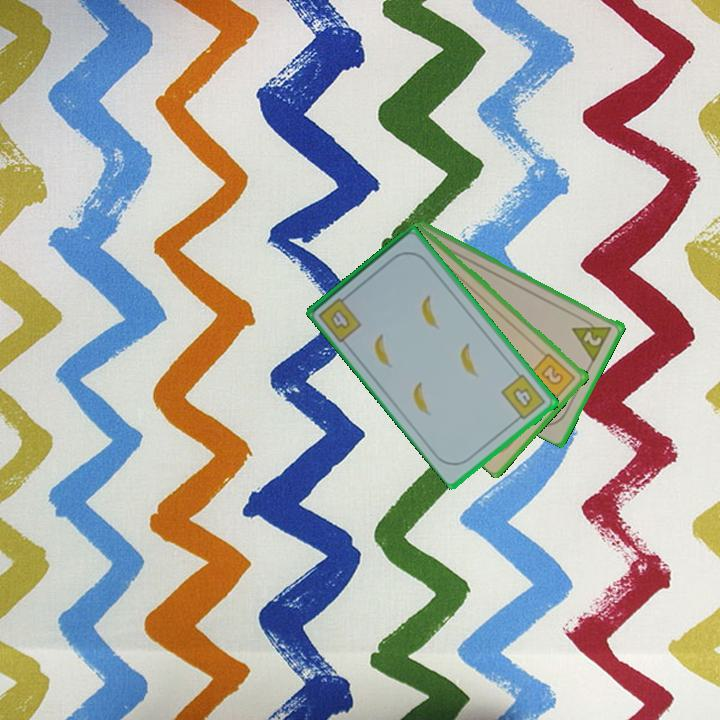2b: (527, 349, 578, 404)
2p: (580, 327, 605, 349)
4b: (498, 371, 549, 425), (315, 290, 365, 345)
